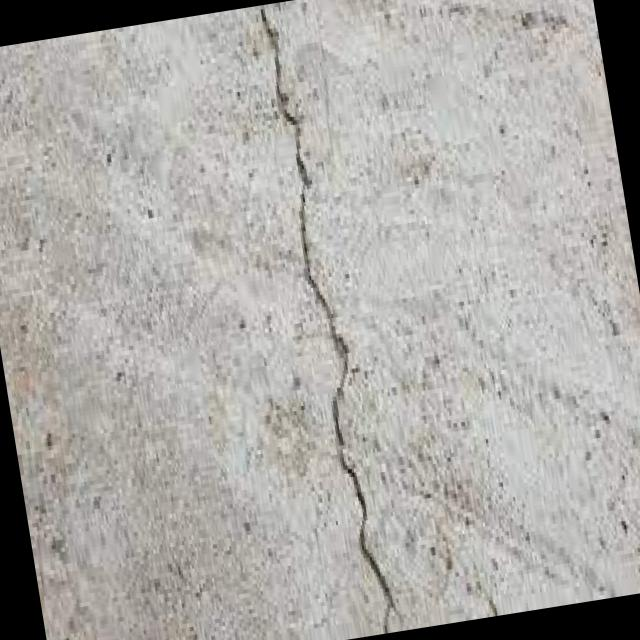crack: (262, 0, 408, 629)
